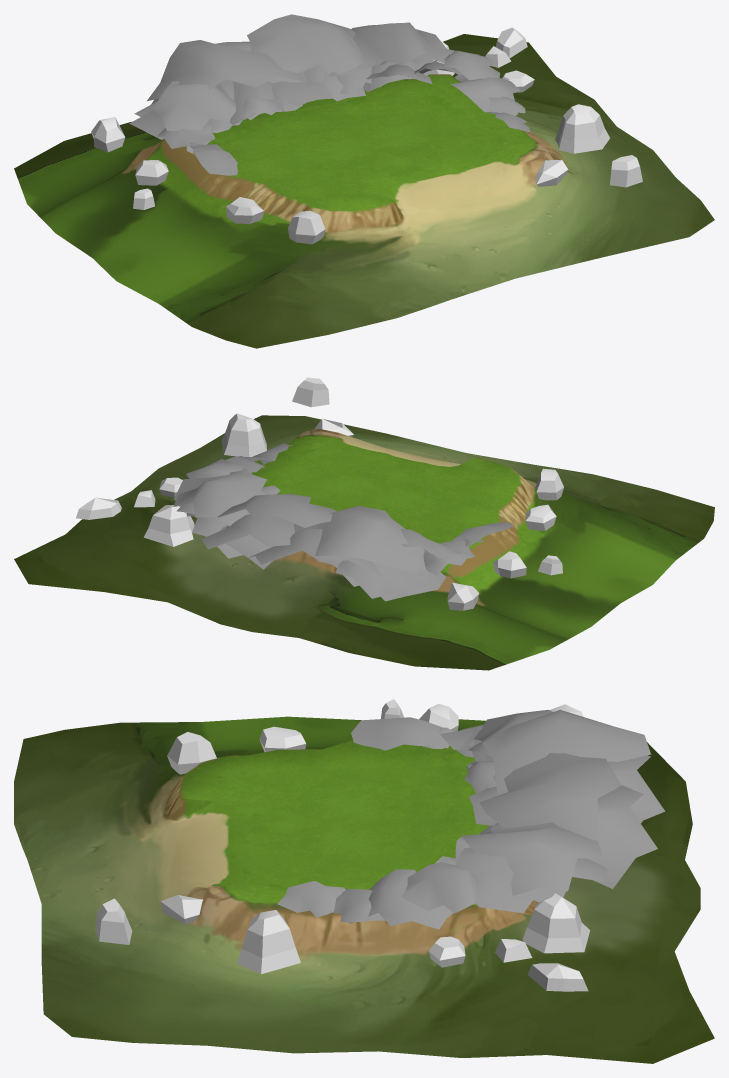
The model's file is small_b_island.FBX.
3 views of the same model, one above another, from view 1: azimuth 30°, elevation 25°; view 2: azimuth 150°, elevation 25°; view 3: azimuth 270°, elevation 25° (orthographic). The views are drawn at different scales.
Parts seen in each view (by area): view 1: Rectangle012, small_b, Line030, objLine035; view 2: Rectangle012, small_b, Line030, objLine035; view 3: Rectangle012, small_b, Line030, objLine035.
Boxes of the visible parts, x1,y1,x2,y2 form: Rectangle012: (14, 34, 714, 348); small_b: (129, 14, 500, 148); Line030: (91, 27, 642, 244); objLine035: (186, 62, 529, 175); Rectangle012: (14, 415, 714, 670); small_b: (173, 459, 475, 601); Line030: (76, 377, 563, 610); objLine035: (225, 443, 514, 556); Rectangle012: (14, 716, 714, 1063); small_b: (401, 709, 665, 913); Line030: (95, 699, 589, 991); objLine035: (277, 717, 498, 929).
Bounding box in the file's own units: 81.58 × 14.71 × 70.17.
